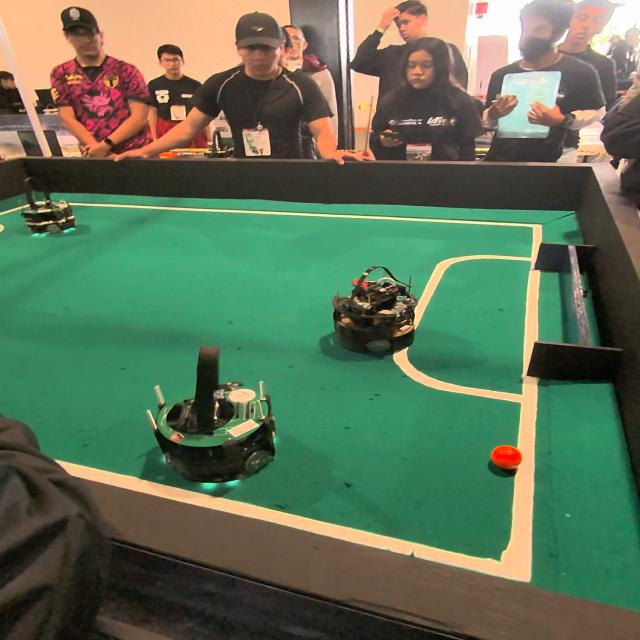Robot: (134, 360, 288, 498), (324, 266, 418, 364), (17, 177, 78, 243)
pelota: (490, 444, 522, 474)
